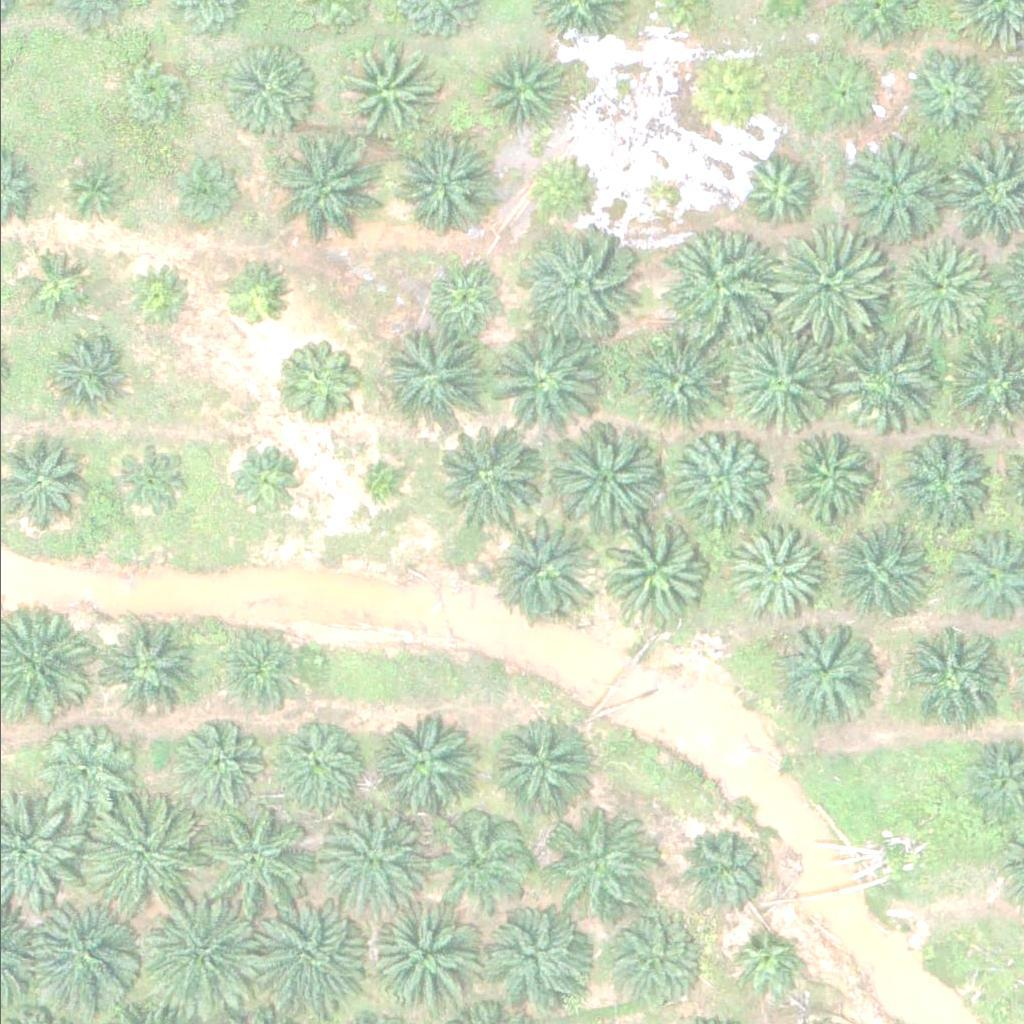Kelapa_Sawit: (143, 902, 256, 1015), (254, 902, 367, 1015), (372, 901, 485, 1014), (487, 902, 600, 1015), (312, 799, 425, 912), (83, 801, 196, 914), (547, 418, 660, 531), (430, 415, 543, 528), (666, 233, 779, 346), (518, 230, 631, 343), (830, 323, 943, 436), (28, 906, 142, 1018), (487, 322, 601, 434), (728, 326, 842, 438), (776, 228, 890, 340), (269, 135, 382, 247), (198, 806, 311, 918), (595, 514, 708, 626), (487, 511, 600, 623), (378, 327, 491, 439), (838, 132, 951, 244), (335, 40, 436, 140), (396, 137, 497, 237), (542, 803, 643, 903), (430, 809, 531, 909), (276, 715, 377, 815), (368, 715, 469, 815), (494, 721, 595, 821), (96, 617, 197, 717), (770, 618, 871, 718), (721, 525, 822, 625), (776, 423, 877, 523), (668, 430, 769, 530), (888, 239, 989, 339), (217, 41, 317, 141), (608, 910, 708, 1010), (34, 722, 134, 822), (175, 718, 275, 818), (820, 523, 920, 623), (631, 337, 731, 437), (903, 627, 1003, 727), (899, 435, 999, 535), (686, 48, 775, 136), (105, 439, 194, 527), (417, 254, 505, 342), (800, 48, 888, 136), (679, 825, 767, 913), (280, 339, 368, 427), (41, 333, 129, 421), (903, 50, 992, 137), (476, 47, 564, 134), (224, 437, 312, 524), (221, 624, 309, 711), (732, 144, 820, 231), (527, 151, 603, 226), (165, 154, 241, 229), (725, 928, 801, 1003), (53, 152, 129, 227), (216, 259, 291, 334), (16, 244, 91, 319), (111, 58, 186, 133), (120, 259, 195, 334), (347, 456, 397, 506)
